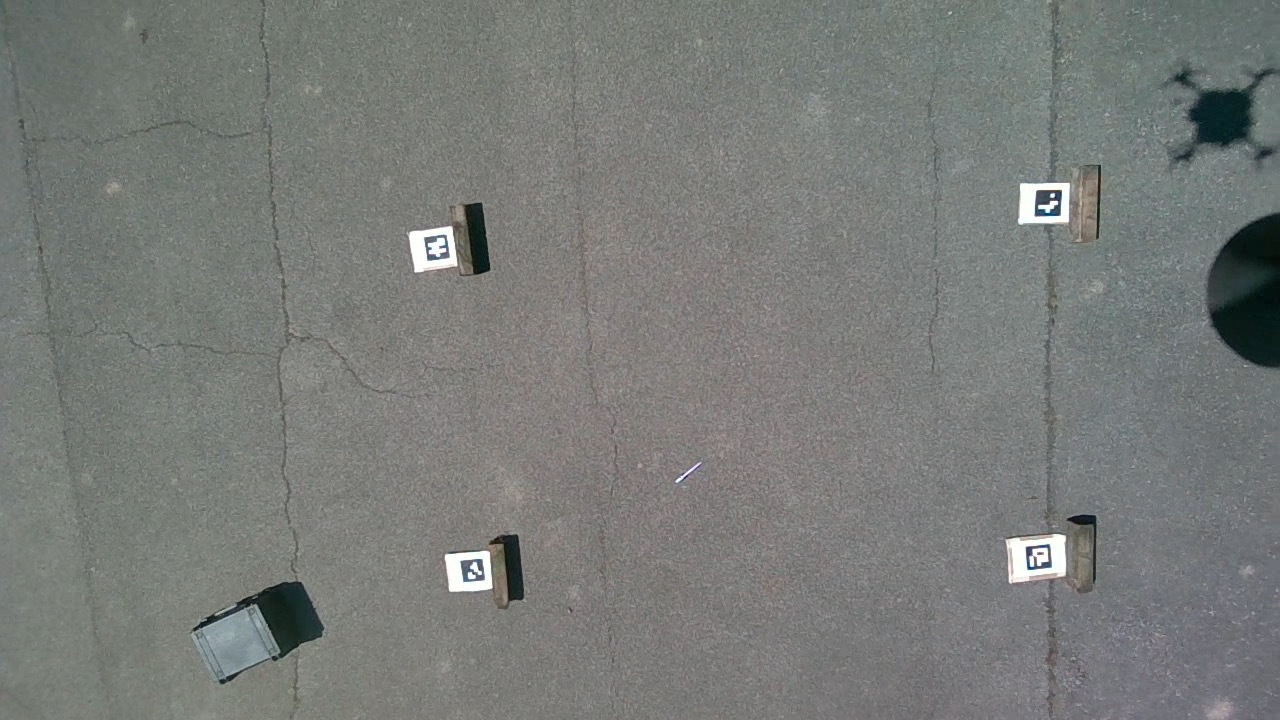probes: (675, 462, 702, 483)
rako: (191, 581, 323, 683)
